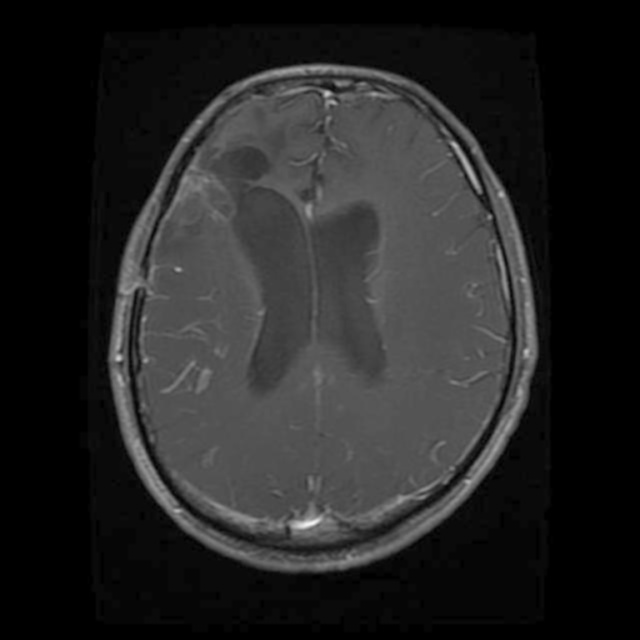pituitary tumor: (178, 171, 238, 229)
